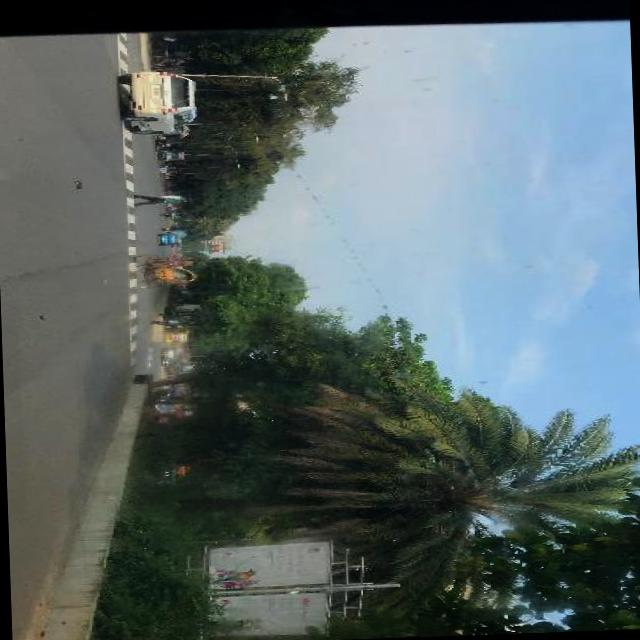bus: (162, 328, 188, 342)
car: (118, 68, 198, 136), (157, 232, 180, 244), (160, 358, 174, 364)
motorcycle: (132, 256, 206, 288), (160, 210, 180, 216), (162, 224, 178, 230)
truck: (161, 346, 177, 358)
